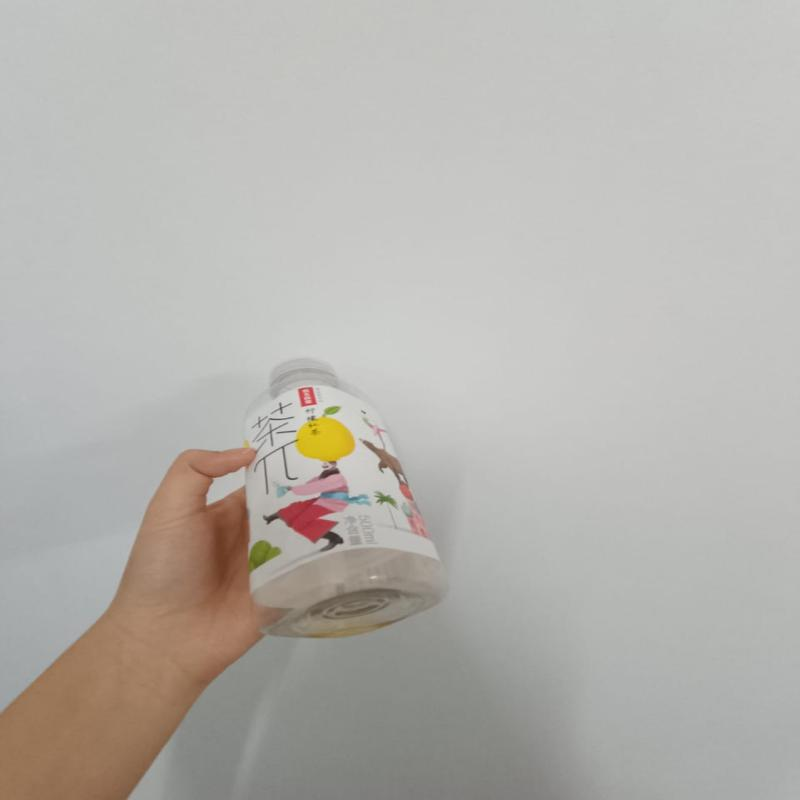botella: (239, 353, 446, 640)
